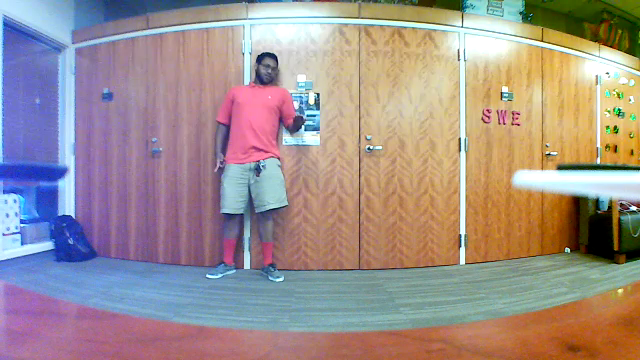land: (290, 107, 310, 128)
